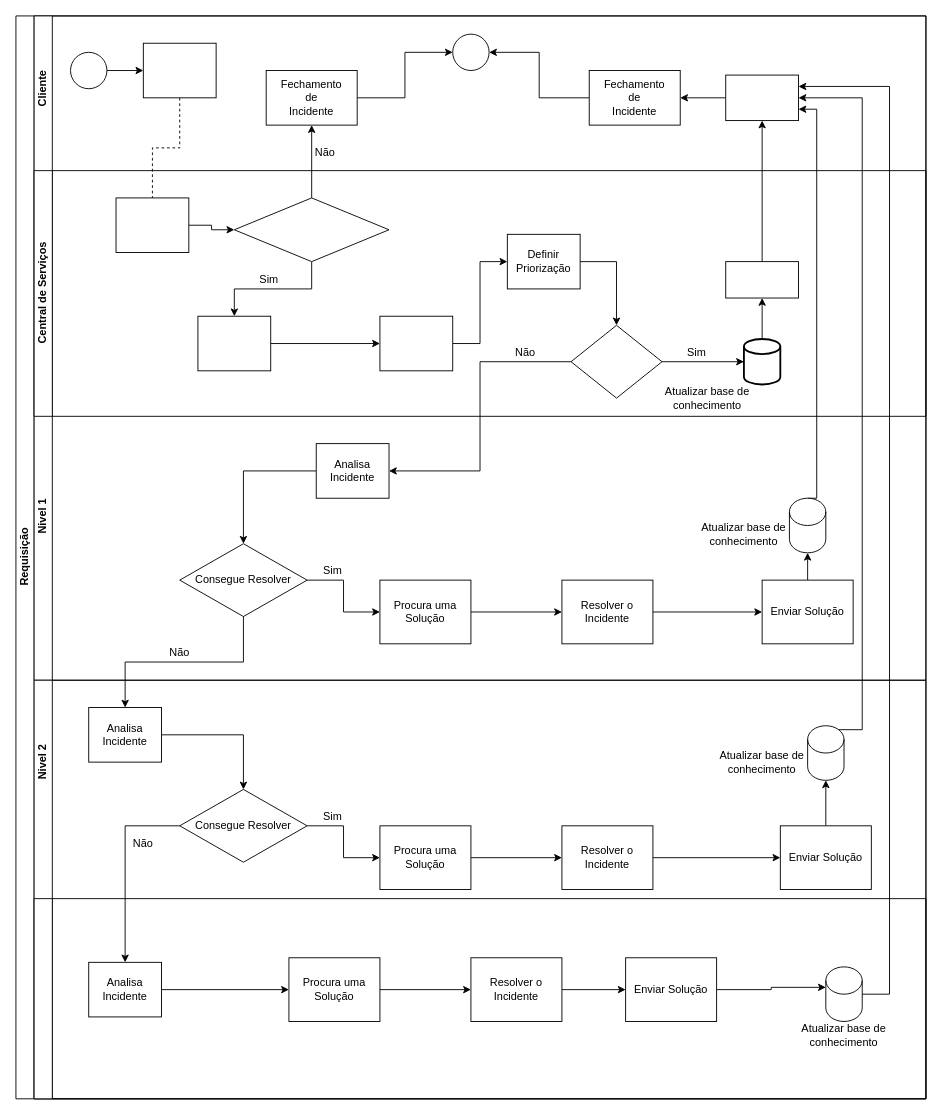
The diagram is 942 pixels wide and 1115 high, and some of its shapes have lost their labels. Here are the shapes that lost their labels. From the top down, the centre of each, then its label:
At [179,70]: "Abrir Incidente".
At [762,97]: "Retornar Solução".
At [152,225]: "Receber".
At [311,229]: "É um Incidente ?".
At [762,279]: "Resolver".
At [234,343]: "Registrar".
At [416,343]: "Categorizar o Incidente".
At [616,361]: "Consegue Resolver?".
At [479,998]: "Nivel 3".
